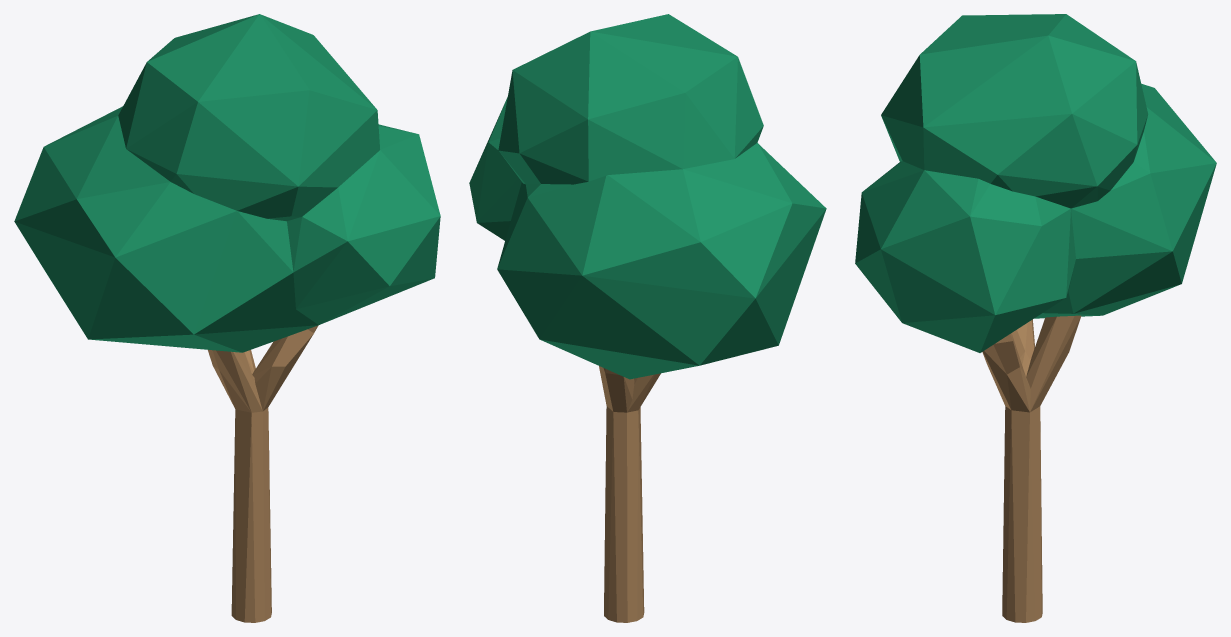
Rendered from Tree 01.fbx.
The picture shows the model from 3 angles, left to right: view 1: azimuth 30°, elevation 25°; view 2: azimuth 150°, elevation 25°; view 3: azimuth 270°, elevation 25°; orthographic projection.
Parts seen in each view (by area): view 1: Tree 01; view 2: Tree 01; view 3: Tree 01.
Boxes of the visible parts, x1,y1,x2,y2 form: Tree 01: [14, 14, 440, 622]; Tree 01: [469, 14, 826, 622]; Tree 01: [855, 14, 1216, 622].
Bounding box in the file's own units: 1110 × 1765 × 982.
